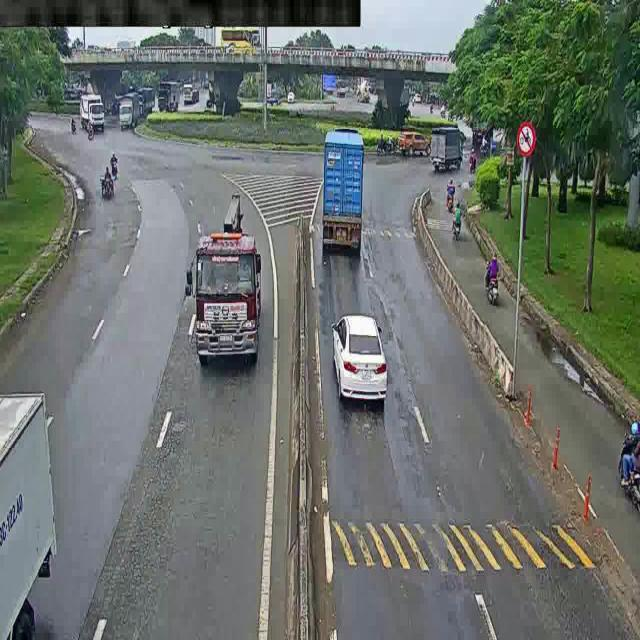car: (319, 307, 403, 424), (401, 125, 432, 164)
motorbike: (609, 410, 640, 505), (483, 253, 516, 313), (447, 197, 470, 248), (93, 167, 121, 198), (373, 130, 398, 151), (440, 179, 456, 201), (87, 124, 100, 149), (66, 116, 78, 137), (110, 155, 122, 174), (469, 149, 477, 174)
truck: (159, 187, 281, 379), (1, 379, 85, 593), (307, 121, 377, 266), (428, 123, 462, 178), (75, 88, 112, 137), (155, 78, 188, 116), (114, 90, 141, 133), (138, 87, 157, 120), (179, 83, 200, 107)
